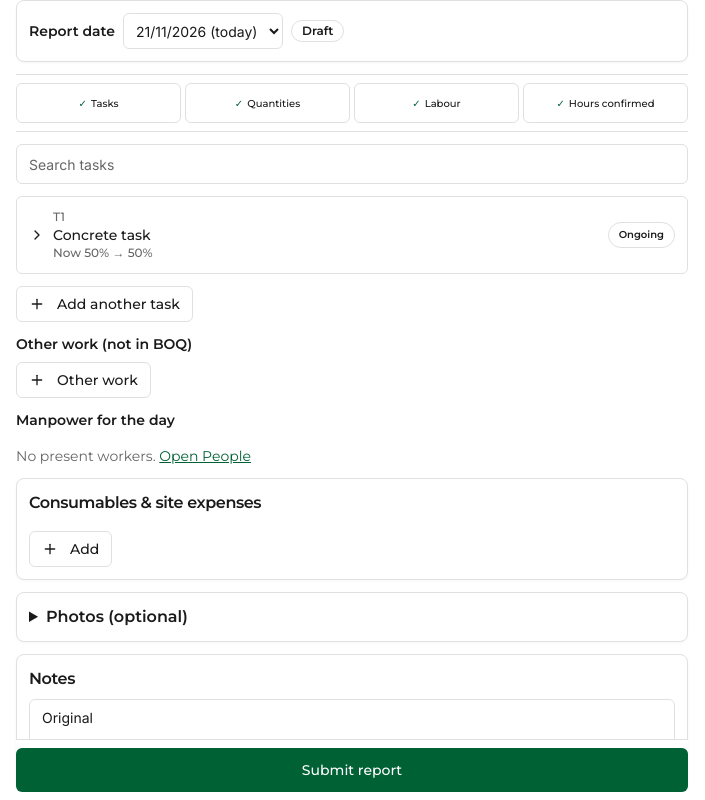
Scenario: Daily Report scope transitions › quantity edits switch Completed back to Ongoing and Completed still forces 100
Later steps or results of the test are not shown.
Click the button "T1 Concrete task Now 50% → 50% Ongoing" at (102, 235), box [17, 197, 687, 273]
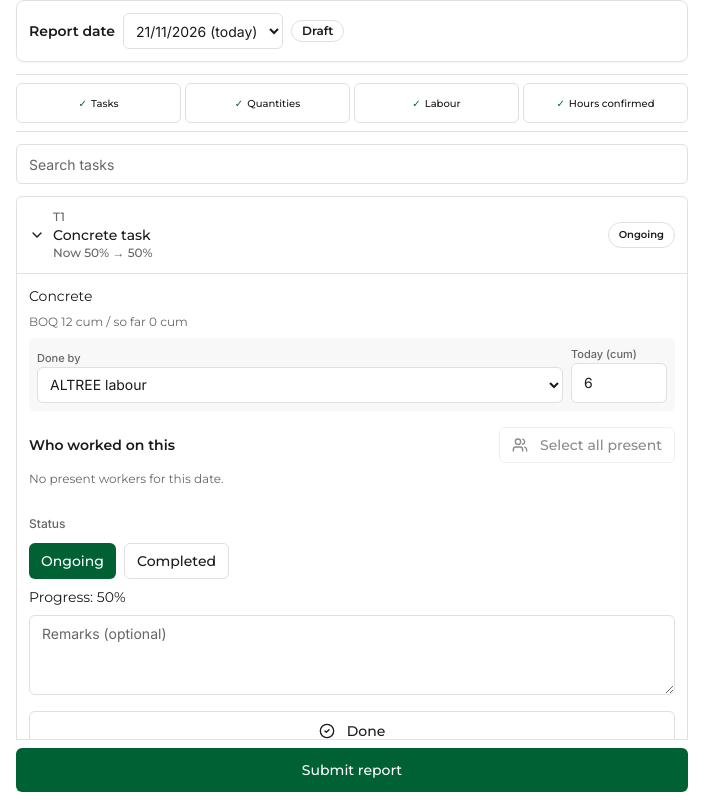
Replace the text in the number field named "Quantity today" with "12" at (619, 382), box [571, 362, 667, 402]
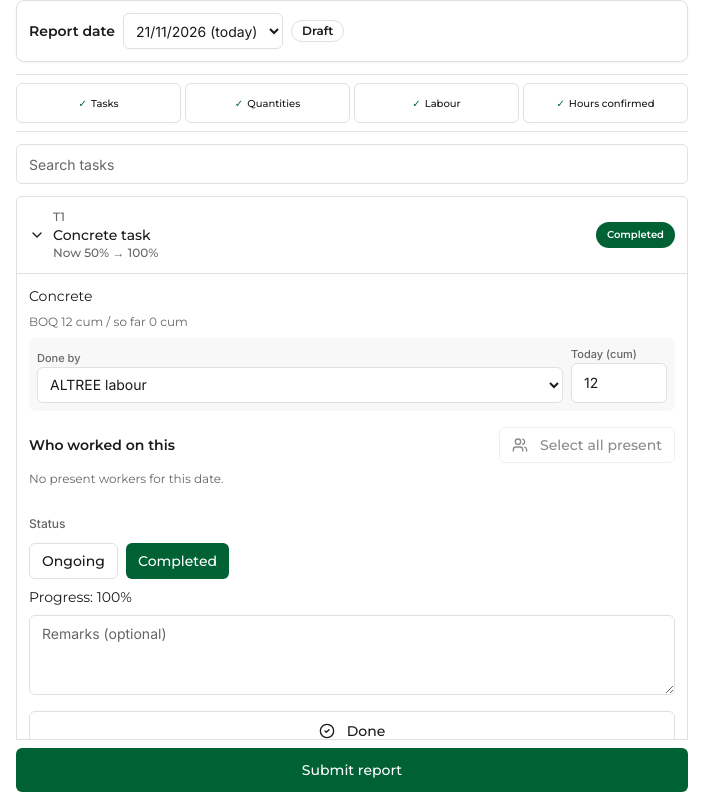
Result: the button "T1 Concrete task Now 50% → 100% Completed" is shown at [17, 197, 687, 273]
Replace the text in the number field named "Quantity today" with "11" at (619, 382), box [571, 362, 667, 402]
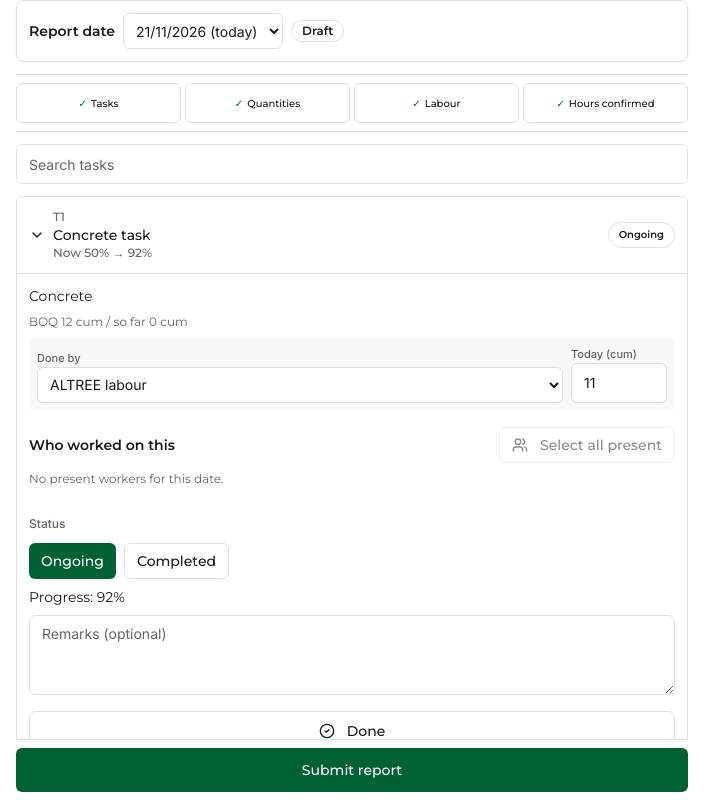
Result: the button "T1 Concrete task Now 50% → 92% Ongoing" is shown at [17, 197, 687, 273]
Click the button "Completed" at (176, 560), box [124, 542, 229, 578]
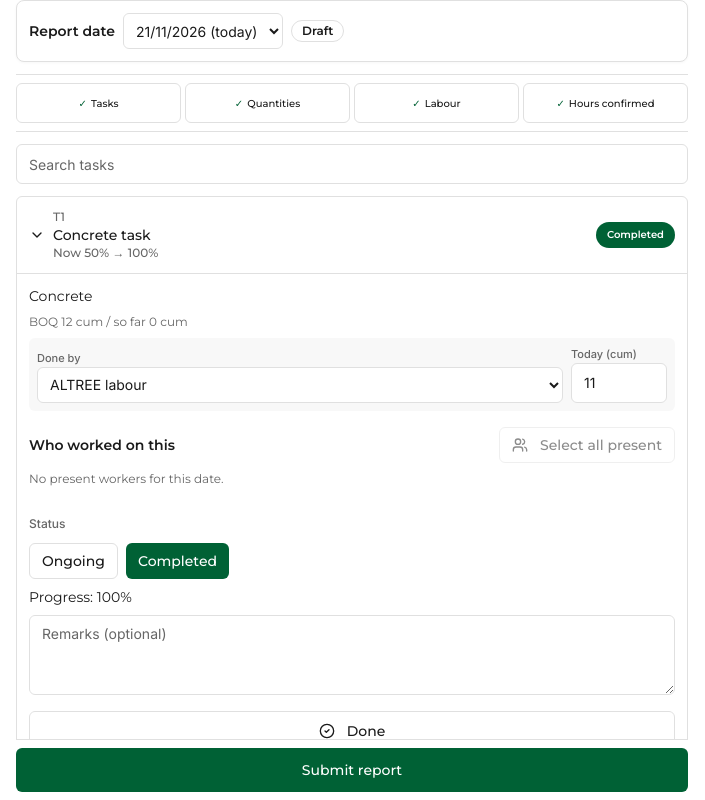
Result: the button "T1 Concrete task Now 50% → 100% Completed" is shown at [17, 197, 687, 273]
